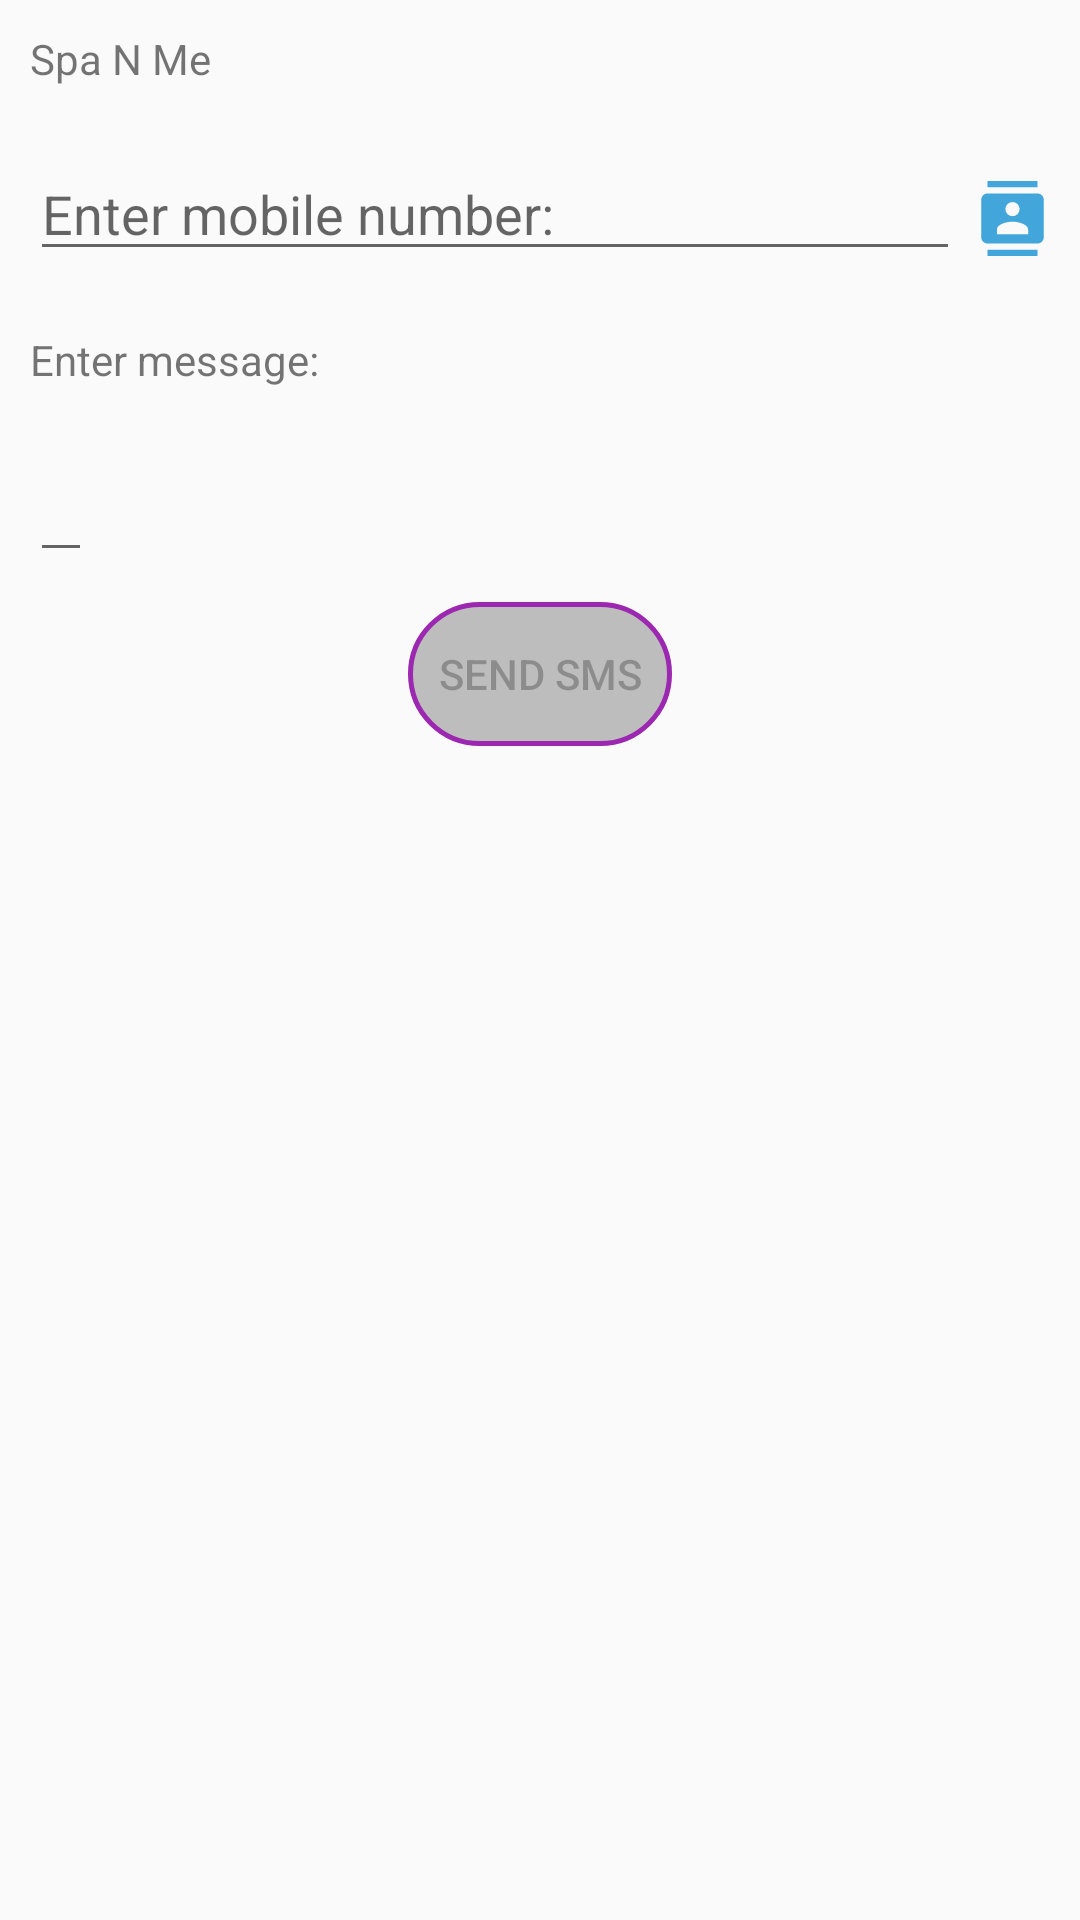

Icon click points for this 1080w x 1920h phone screenshot, format [x,y]:
contacts: [1012,218]
